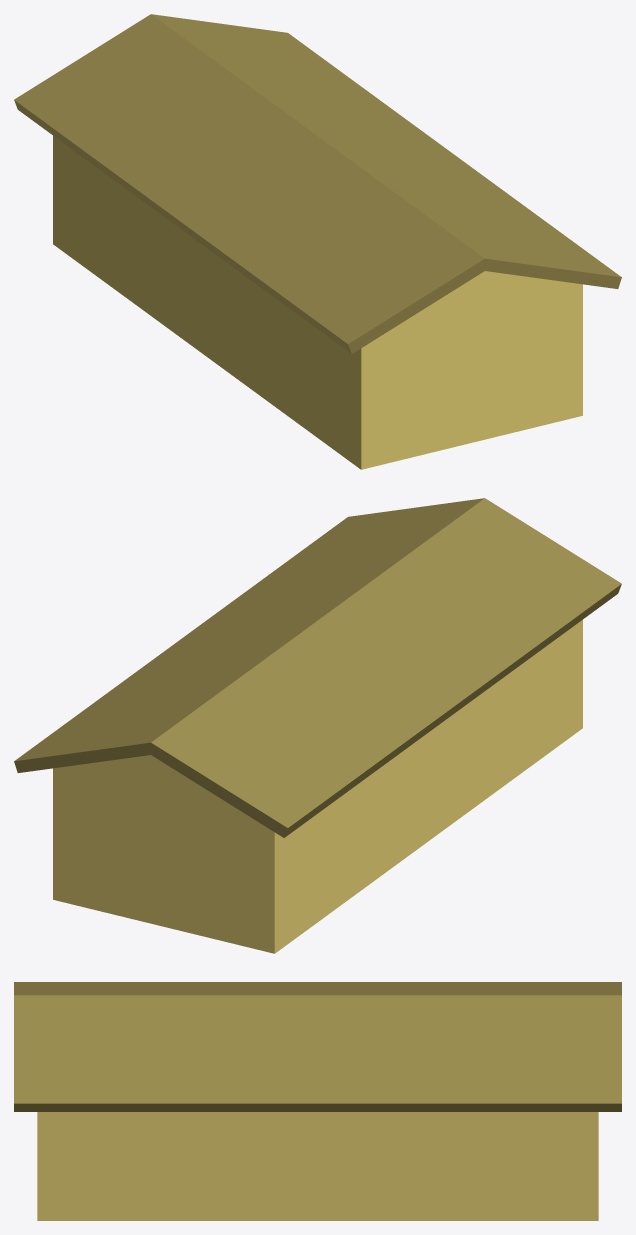
The model's file is result.glb.
3 views of the same model, one above another, from view 1: azimuth 30°, elevation 25°; view 2: azimuth 150°, elevation 25°; view 3: azimuth 270°, elevation 25° (orthographic). The views are drawn at different scales.
Visible parts, largest first — view 1: 7969bba0-c3e0-410f-a171-37cb729253e0__undefined (×2), 2cdc352a-7a6b-4529-8533-34cd26f79090__undefined; view 2: 7969bba0-c3e0-410f-a171-37cb729253e0__undefined (×2), 2cdc352a-7a6b-4529-8533-34cd26f79090__undefined; view 3: 7969bba0-c3e0-410f-a171-37cb729253e0__undefined (×2), 2cdc352a-7a6b-4529-8533-34cd26f79090__undefined.
Part boxes in pixels (<box>): 7969bba0-c3e0-410f-a171-37cb729253e0__undefined (×2): <box>14,14,621,353</box>; 2cdc352a-7a6b-4529-8533-34cd26f79090__undefined: <box>53,136,582,469</box>; 7969bba0-c3e0-410f-a171-37cb729253e0__undefined (×2): <box>14,498,621,837</box>; 2cdc352a-7a6b-4529-8533-34cd26f79090__undefined: <box>53,620,582,953</box>; 7969bba0-c3e0-410f-a171-37cb729253e0__undefined (×2): <box>14,982,621,1111</box>; 2cdc352a-7a6b-4529-8533-34cd26f79090__undefined: <box>37,1112,598,1220</box>.
Bounding box in the file's own units: 616 × 416 × 1301.
